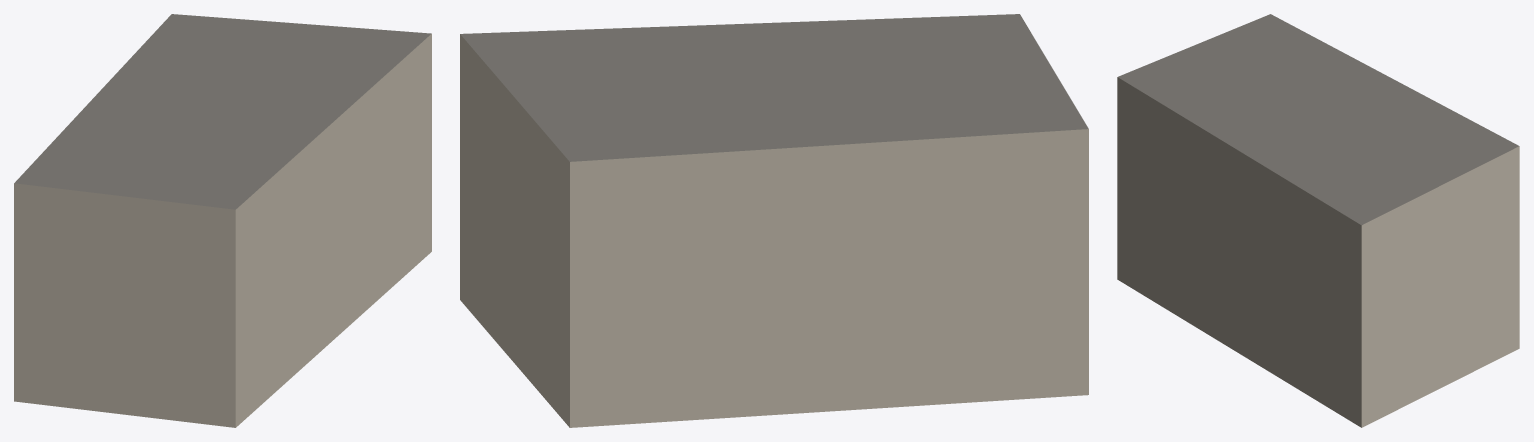
The picture shows the model from 3 angles, left to right: view 1: azimuth 30°, elevation 25°; view 2: azimuth 150°, elevation 25°; view 3: azimuth 270°, elevation 25°; orthographic projection. The views are drawn at different scales.
Visible parts, largest first — view 1: HP-w731233914; view 2: HP-w731233914; view 3: HP-w731233914.
Part boxes in pixels (<box>): HP-w731233914: <box>14,14,431,427</box>; HP-w731233914: <box>460,14,1088,427</box>; HP-w731233914: <box>1117,14,1519,427</box>.
Size of the model in its own units: 40.29 by 18 by 32.39.
